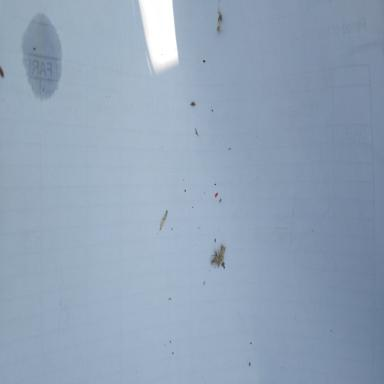pbw: (211, 244, 226, 264), (159, 210, 168, 231), (214, 247, 221, 268), (217, 9, 223, 33)
